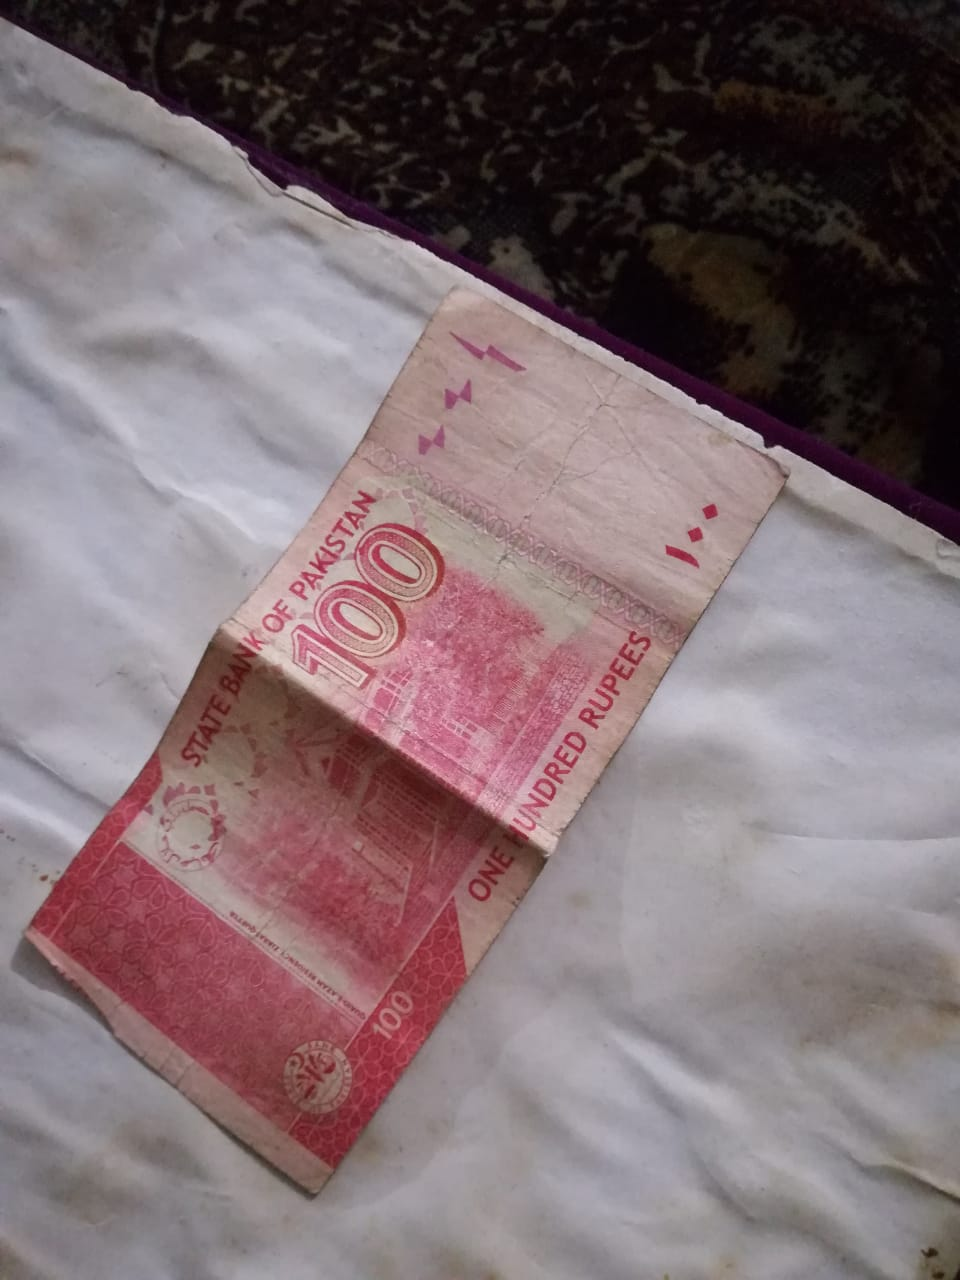100 rupee: (14, 259, 842, 1226)
